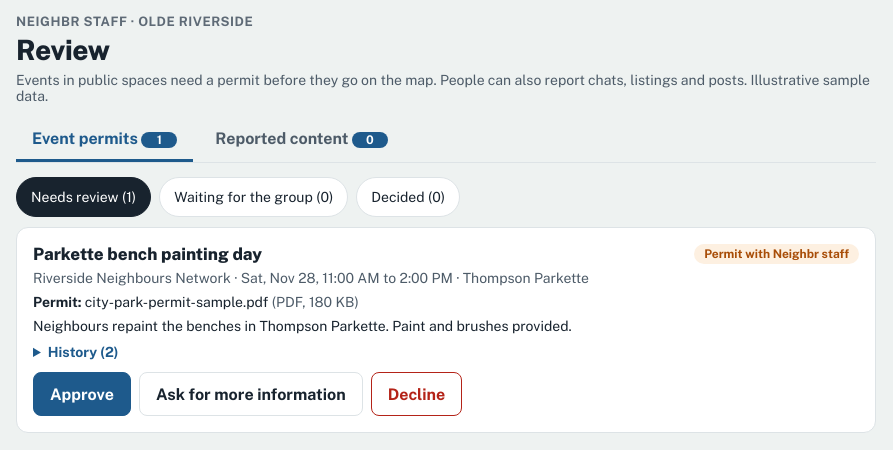
Test case: event permits › Approve puts the event on the map and tells the group
Expected: the heading "Review" is shown, 16,33 -> 110,66
Step 1. Click the button with aria-label "Approve the permit" → x=82, y=394, box 33,372 -> 131,416
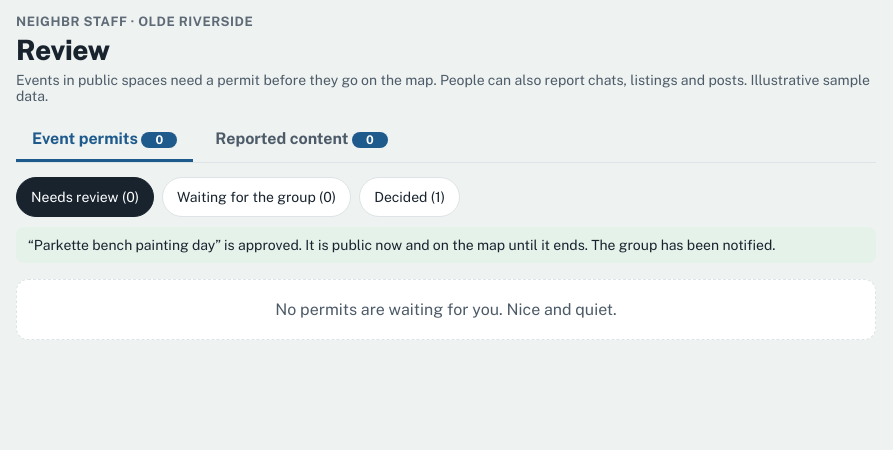
Expected: the text "is approved. It is public now and on the map" is shown, 28,237 -> 776,253
Expected: the text "No permits are waiting for you. Nice and quiet." is shown, 16,279 -> 876,340
Step 2. Click the button "Decided (1)" → x=410, y=197, box 359,177 -> 460,217
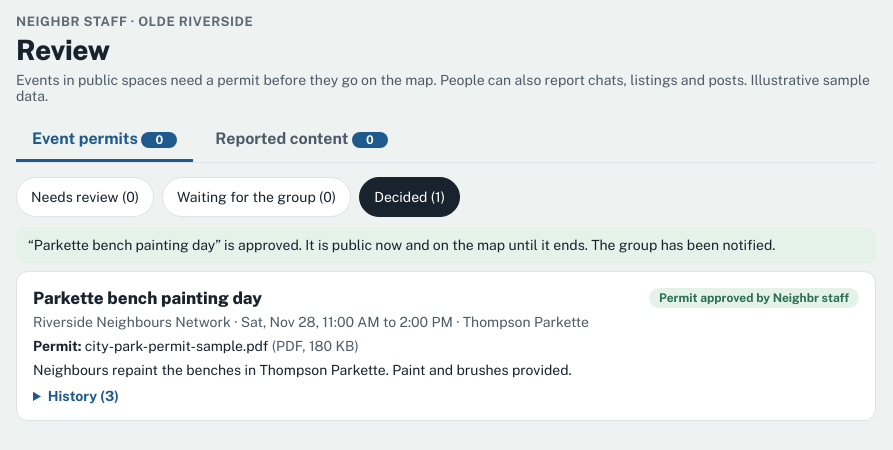
Expected: the text "Permit approved by Neighbr staff" is shown, 649,288 -> 859,308
